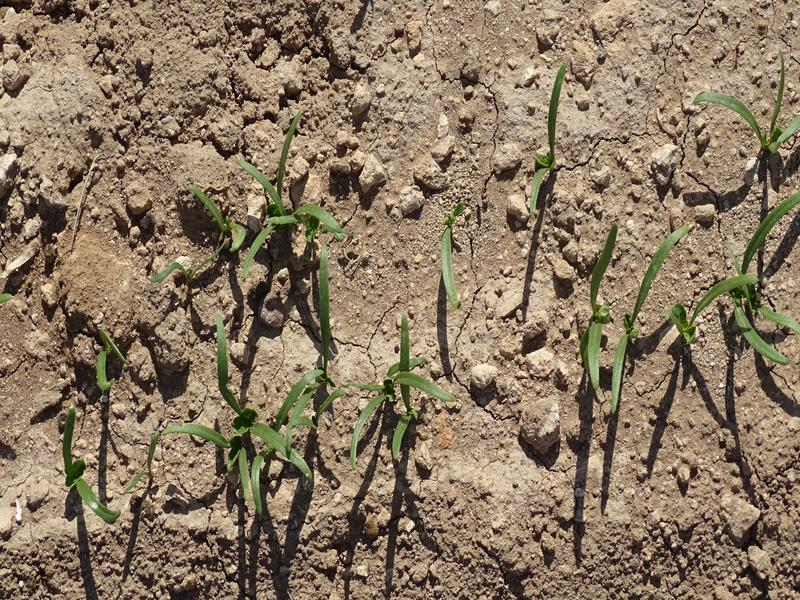Espinaca: (570, 228, 797, 388), (173, 131, 352, 308), (170, 317, 321, 495), (360, 315, 447, 466), (679, 68, 800, 149), (52, 411, 121, 523), (521, 63, 571, 213), (438, 205, 463, 303), (90, 327, 126, 391)
